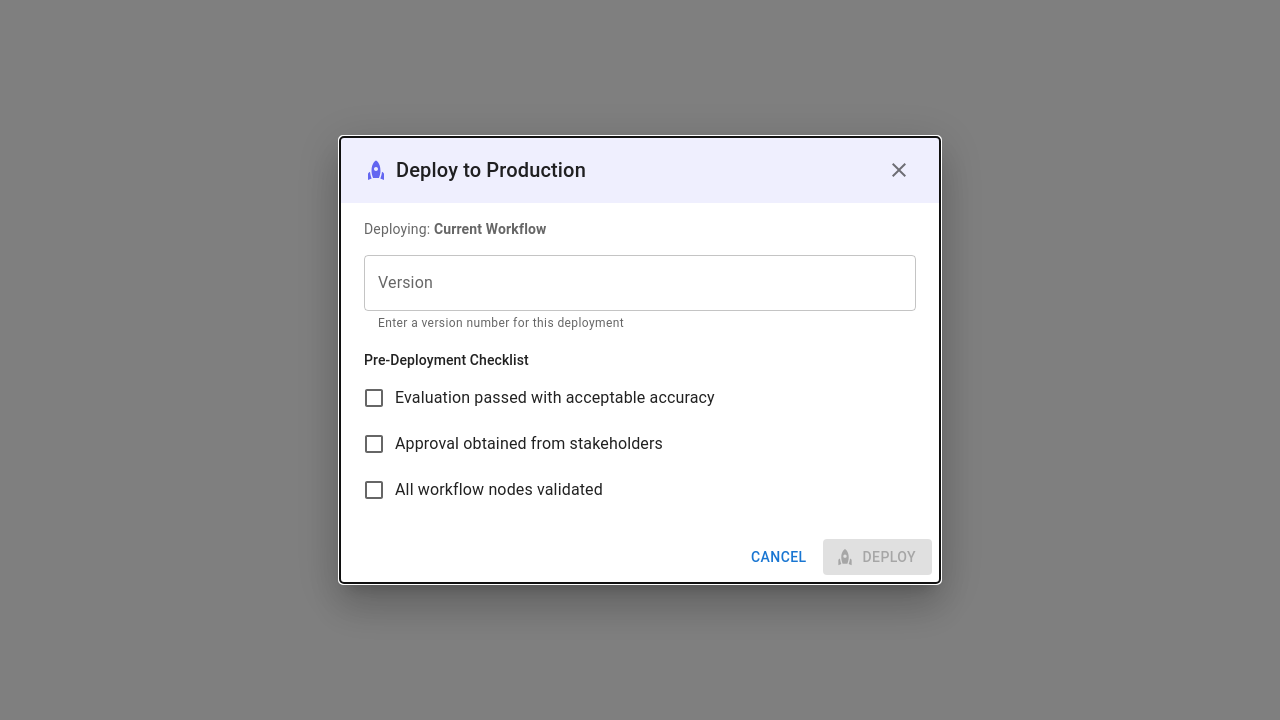
Test: DeploymentDialog Unit Tests › Test 8: checking all checklist items should enable deploy button
The image size is (1280, 720).
Click the checkbox labelled "Evaluation passed with acceptable accuracy": x=538, y=398 [362,386,715,410]
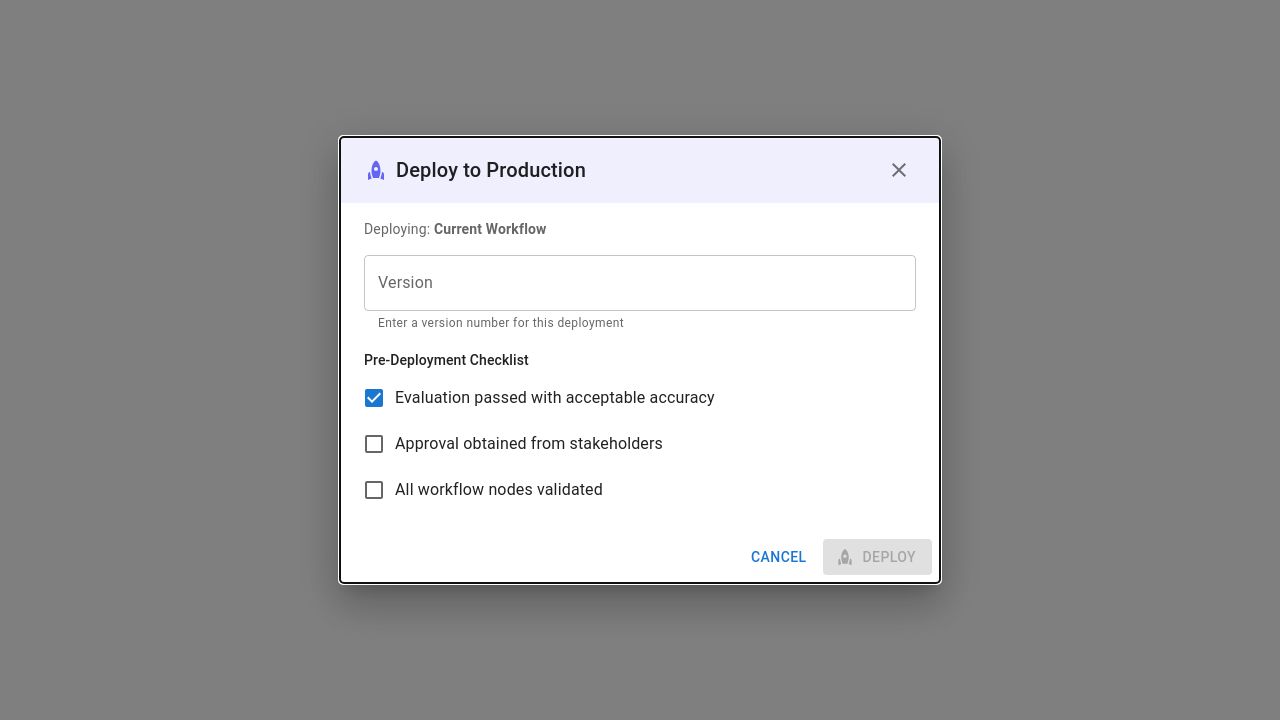
Click the checkbox labelled "Approval obtained from stakeholders": x=512, y=444 [362,432,663,456]
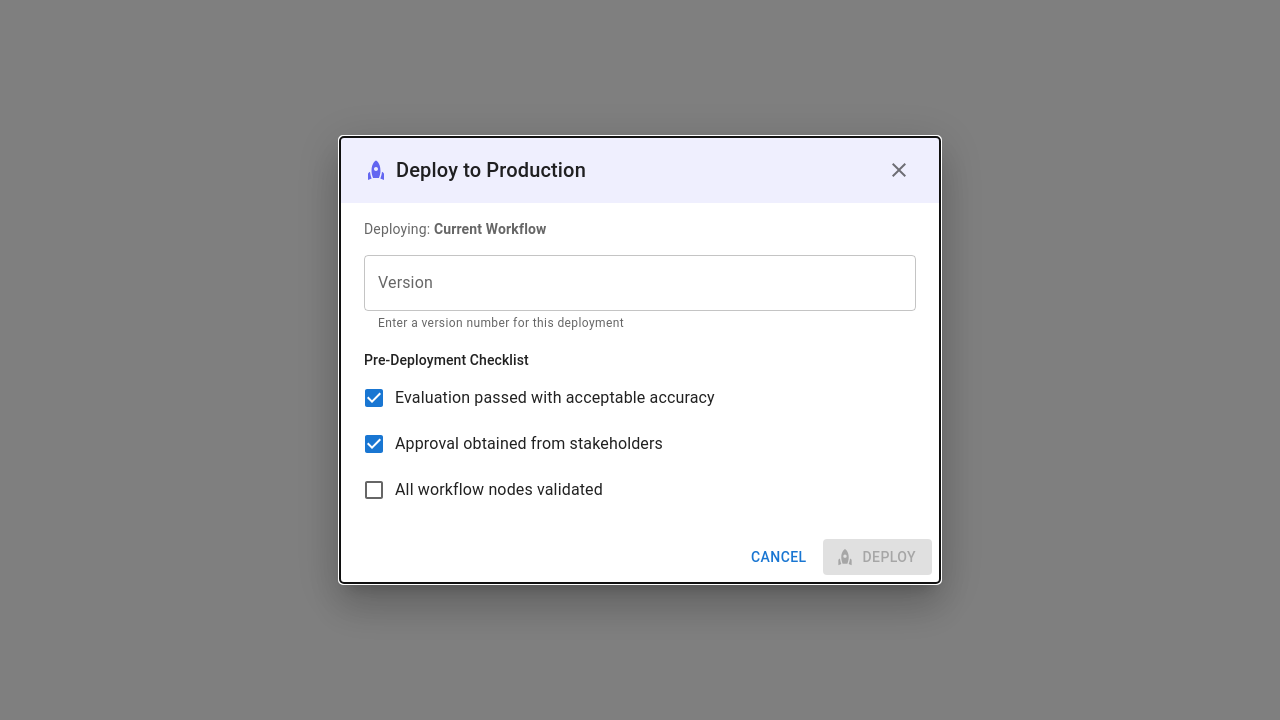
Click the checkbox labelled "All workflow nodes validated": x=482, y=490 [362,478,603,502]
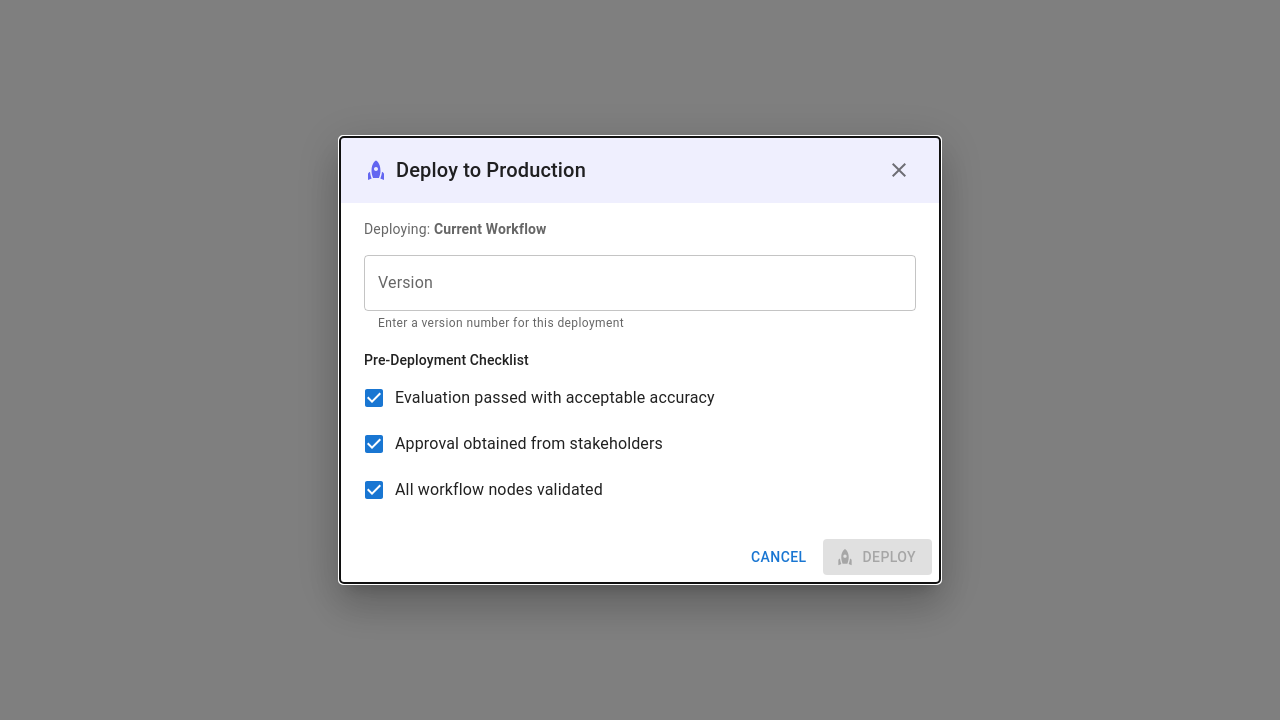
In the field labelled "Version": x=640, y=283 [364,255,916,311], type "v2.0.0"
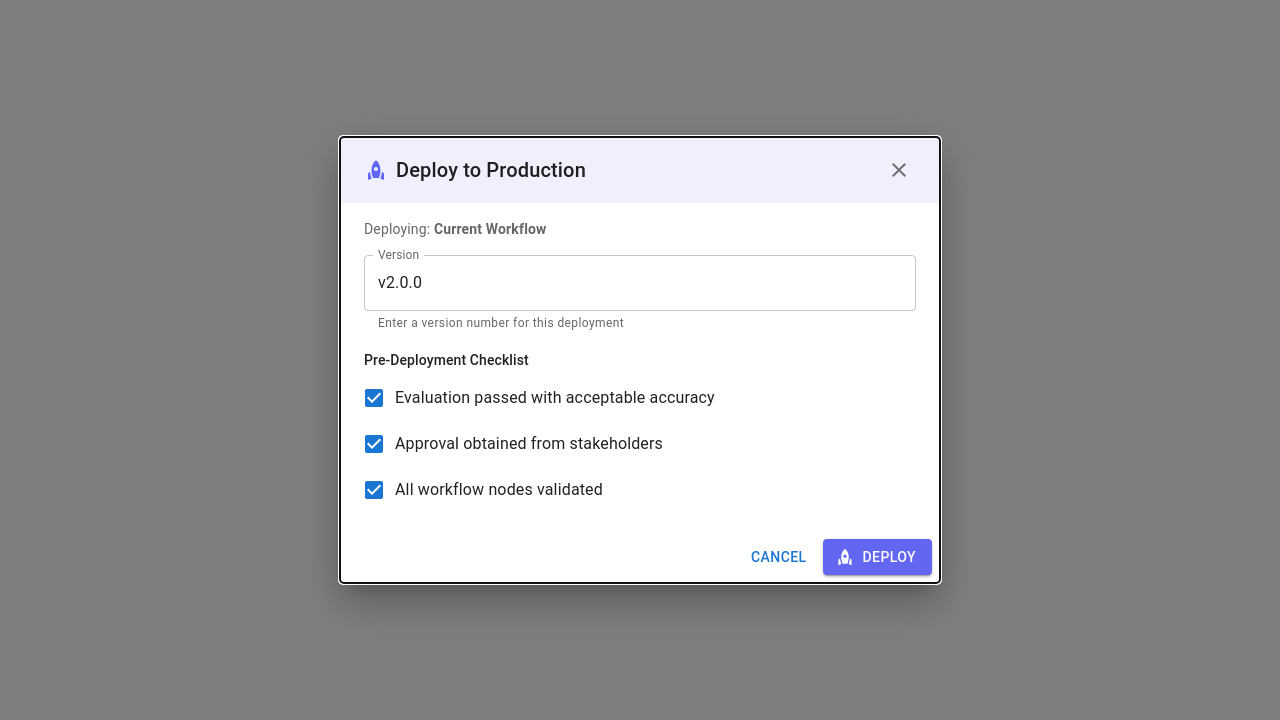
Check: the button "Deploy" is enabled, box [822,539,932,575]
